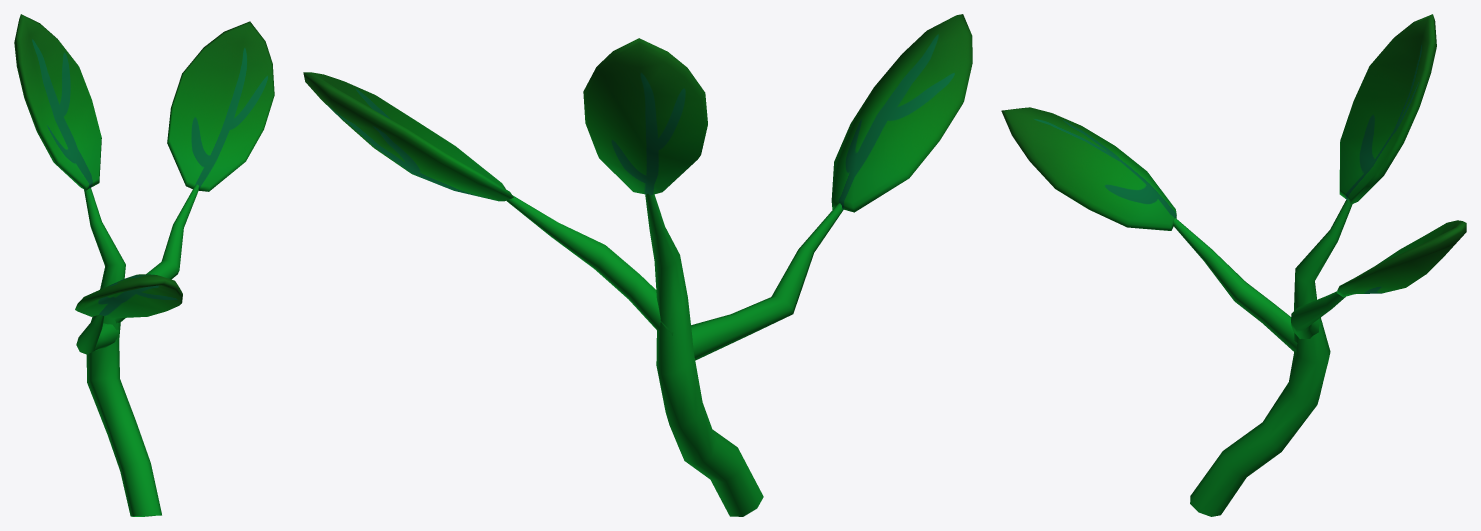
Rendered from Veg_pumpkin_S.fbx.
3 views of the same model, side by side, from view 1: azimuth 30°, elevation 25°; view 2: azimuth 150°, elevation 25°; view 3: azimuth 270°, elevation 25° (orthographic). The views are drawn at different scales.
Visible parts, largest first — view 1: Sphere.020; view 2: Sphere.020; view 3: Sphere.020.
Boxes of the visible parts, left/top/right/bottom form: Sphere.020: left=14, top=14, right=274, bottom=516; Sphere.020: left=303, top=14, right=972, bottom=516; Sphere.020: left=1001, top=14, right=1466, bottom=516.
Bounding box in the file's own units: 19.48 × 17.71 × 22.47.
